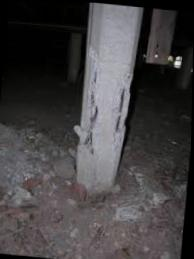exposed_rebar: (119, 88, 124, 112), (116, 115, 120, 130)
spalling: (73, 56, 132, 170)
